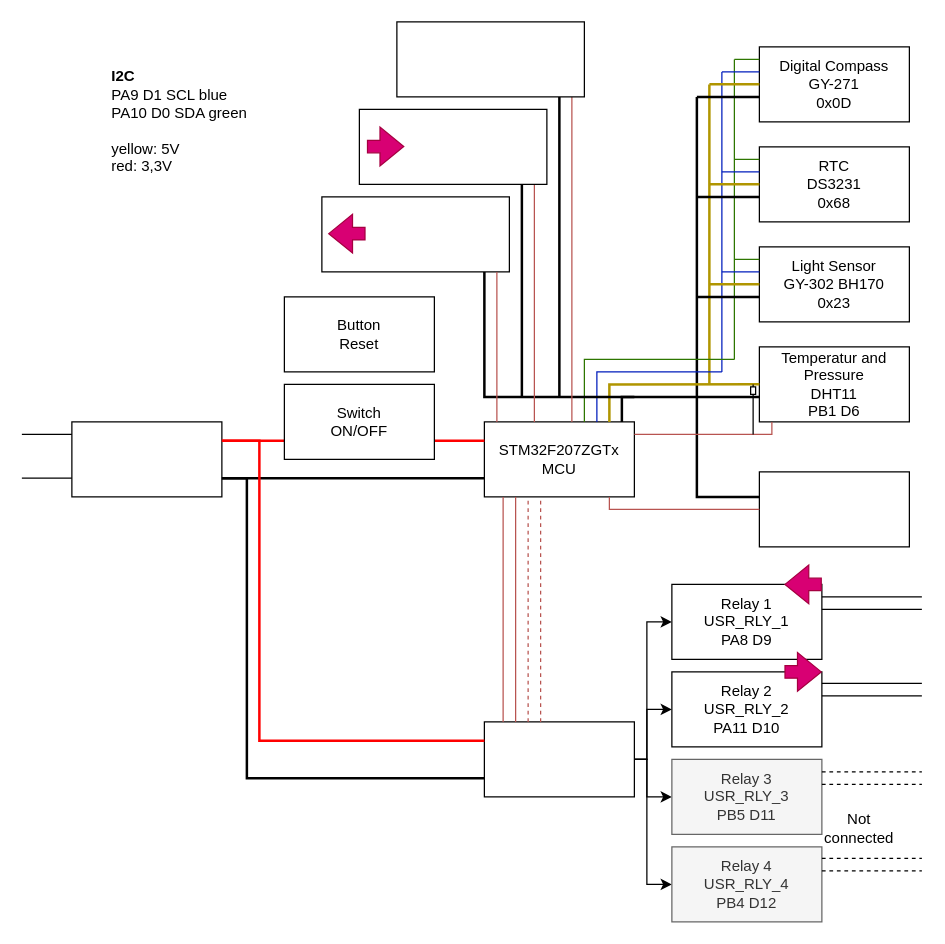
The diagram is 945 pixels wide and 944 high, and some of its shapes have lost their labels. The centre of each missing label's shape, as x and y in pixels:
230V / 5V 1W: point 146,459
Button USR_BTN_1 GPIO_EXTI12 PA12 D2: point 415,234
Button USR_BTN_2 GPIO_EXTI0 PB0 D3: point 452,146
Button USR_BTN_3 GPIO_EXTI7 PB7 D4: point 490,59
Relay Module: point 558,759
Wind Sensor USR_WIND_SENS PB6 D5: point 833,509
